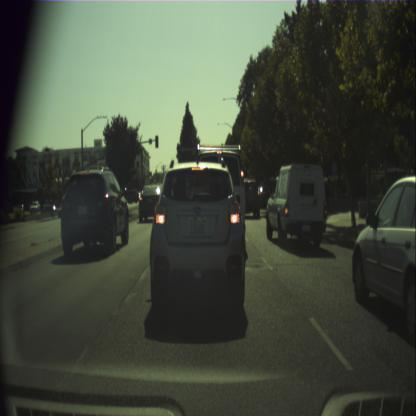off: (176, 143, 180, 155), (155, 135, 158, 147)
